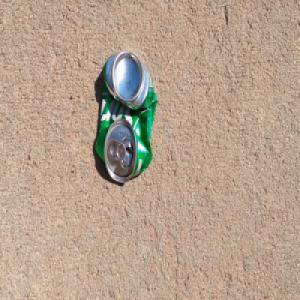SodaCan: (94, 49, 158, 185)
